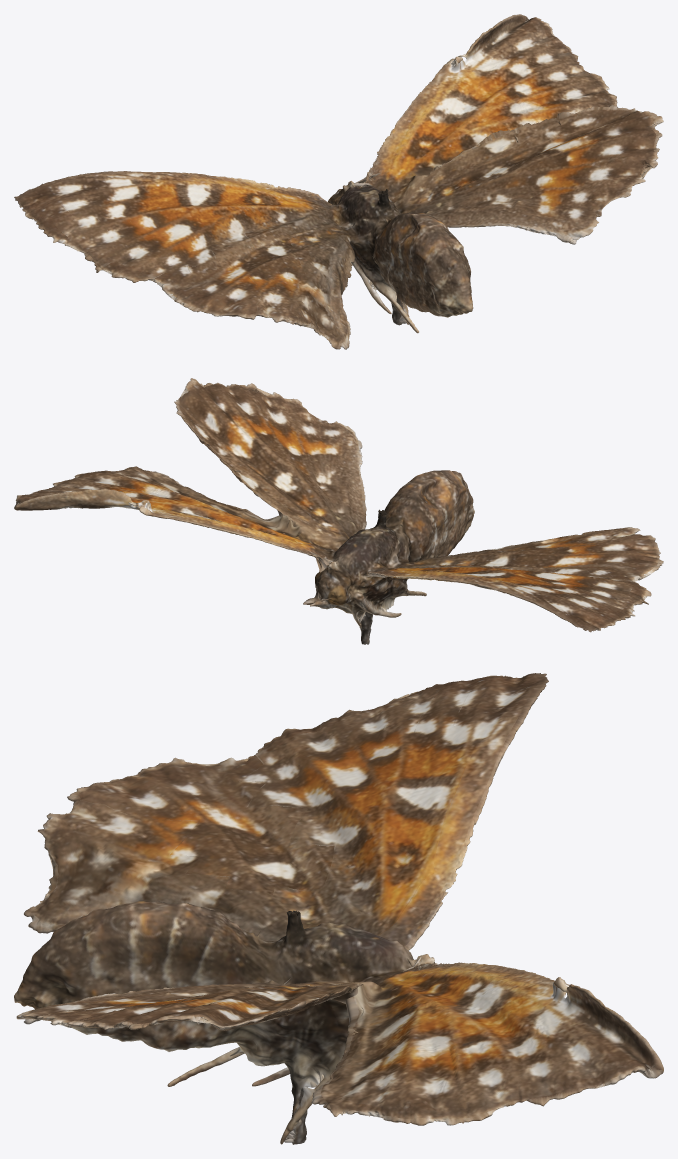
File: mormon_metalmarkFinal.glb
3 renders of one model, top to bottom at view 1: azimuth 30°, elevation 25°; view 2: azimuth 150°, elevation 25°; view 3: azimuth 270°, elevation 25°, orthographic. The views are drawn at different scales.
Parts seen in each view (by area): view 1: Object_3, Object_2, Object_5, Object_4, Object_6; view 2: Object_3, Object_5, Object_2, Object_4, Object_6; view 3: Object_5, Object_3, Object_2, Object_4, Object_6.
Part boxes in pixels (box(x1,y1,x2,y2)): Object_3: box(14, 14, 661, 343); Object_2: box(54, 40, 663, 342); Object_5: box(19, 14, 662, 349); Object_4: box(19, 15, 659, 349); Object_6: box(20, 14, 658, 347); Object_3: box(14, 381, 641, 644); Object_5: box(14, 378, 658, 644); Object_2: box(32, 379, 663, 644); Object_4: box(15, 383, 630, 628); Object_6: box(17, 383, 663, 644); Object_5: box(14, 676, 663, 1142); Object_3: box(14, 673, 663, 1134); Object_2: box(16, 687, 583, 1143); Object_4: box(24, 674, 662, 1144); Object_6: box(14, 676, 653, 1144).
Size of the model in its own units: 1.72 by 0.5312 by 1.06.
1 material, 1 textured.
